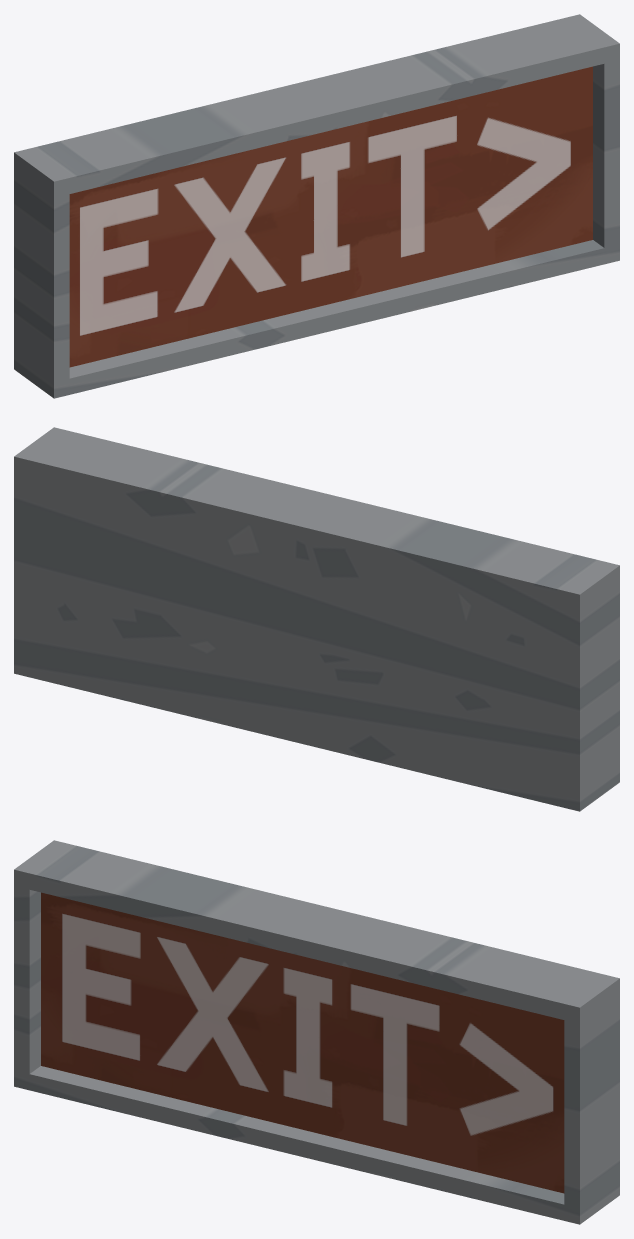
Rendered from ExitSign.FBX.
The picture shows the model from 3 angles, top to bottom: view 1: azimuth 30°, elevation 25°; view 2: azimuth 150°, elevation 25°; view 3: azimuth 330°, elevation 25°; orthographic projection.
Parts seen in each view (by area): view 1: Box001; view 2: Box001; view 3: Box001.
Boxes of the visible parts, box(x1,y1,x2,y2) form: Box001: box(14, 14, 619, 398); Box001: box(14, 427, 619, 811); Box001: box(14, 840, 619, 1224).
Size of the model in its own units: 80.29 by 29.42 by 9.85.
